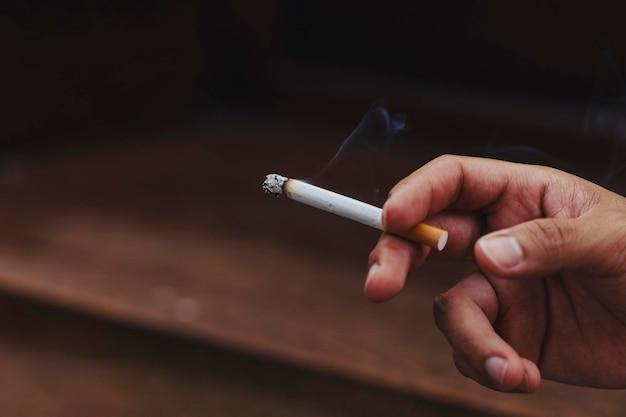cigarette: (263, 174, 383, 230)
